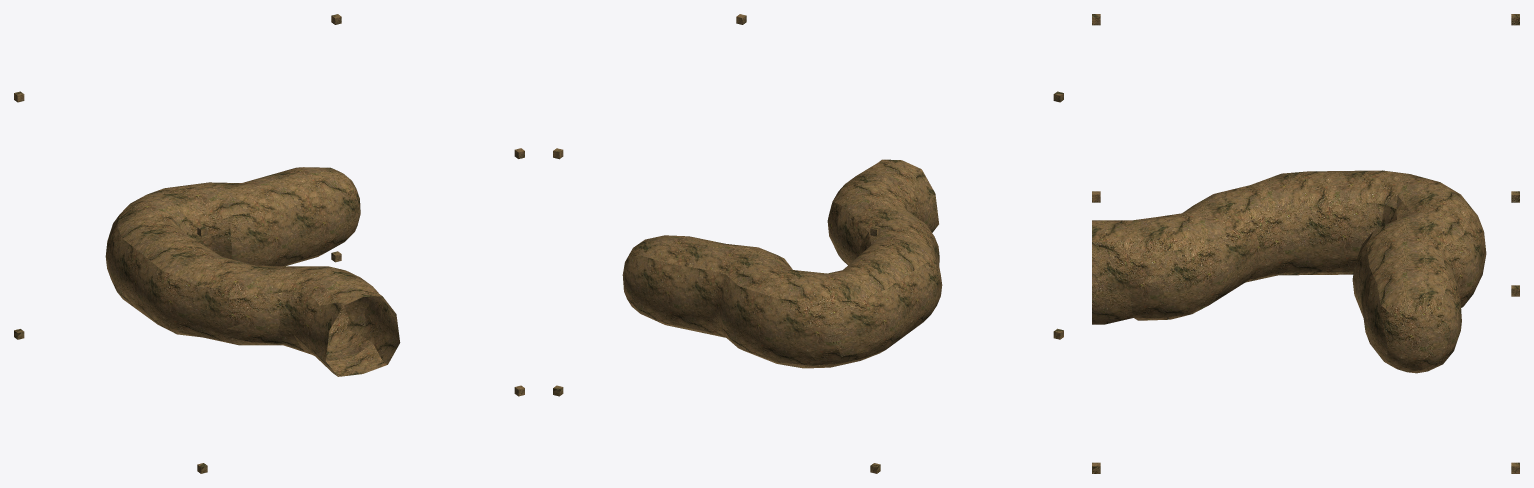
The model's file is lba_1e.glb.
3 views of the same model, side by side, from view 1: azimuth 30°, elevation 25°; view 2: azimuth 150°, elevation 25°; view 3: azimuth 270°, elevation 25° (orthographic). The views are drawn at different scales.
Parts seen in each view (by area): view 1: lba_1e; view 2: lba_1e; view 3: lba_1e.
Part boxes in pixels (bbox=[...]): lba_1e: bbox=[14, 14, 524, 473]; lba_1e: bbox=[553, 14, 1063, 473]; lba_1e: bbox=[1092, 14, 1519, 473].
Bounding box in the file's own units: 15 × 10.8 × 15.
Materials: 1 (1 with a texture image).
